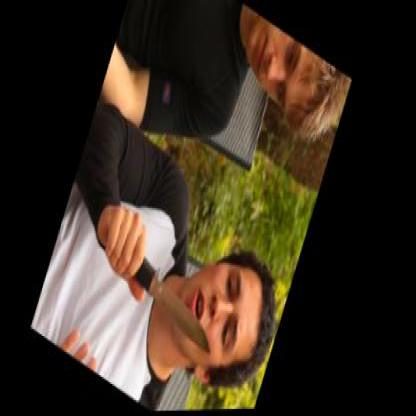knife: (90, 191, 247, 364)
